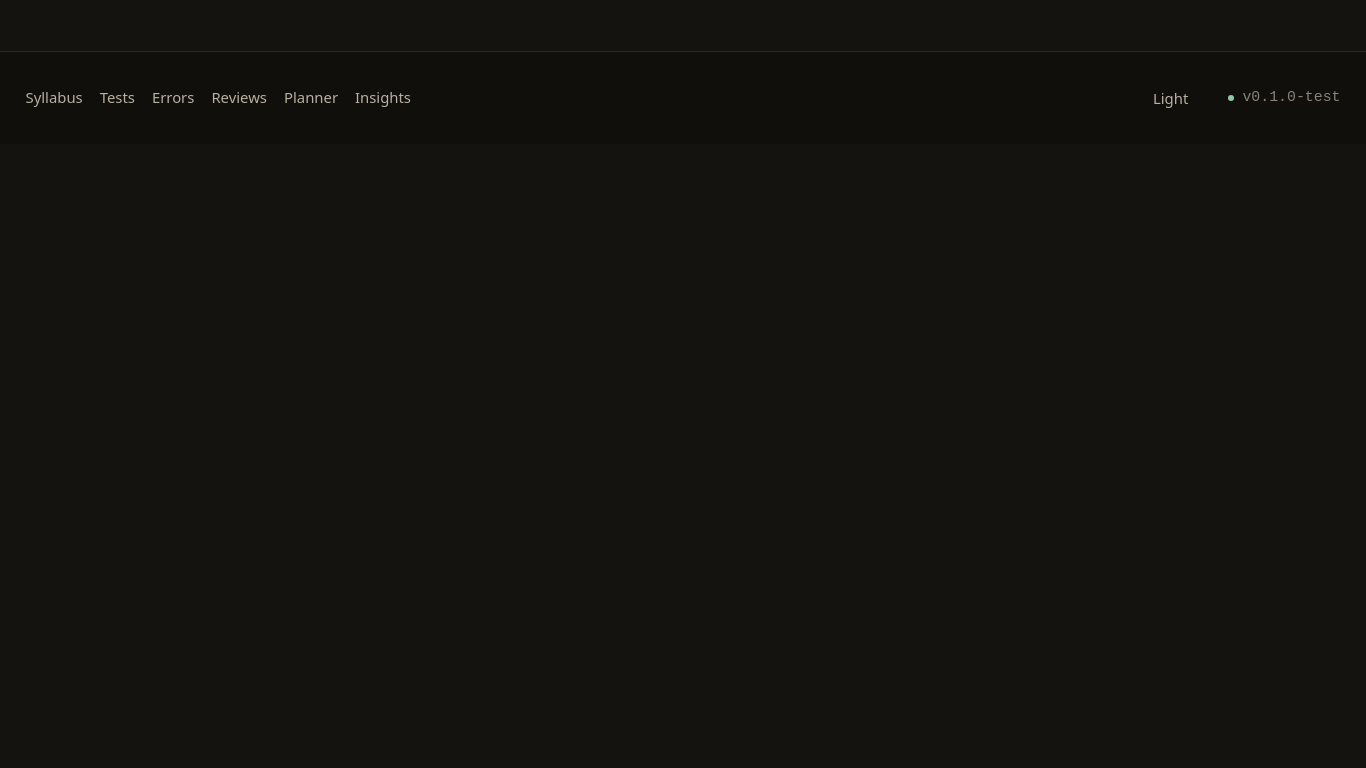
Scenario: AppFooter › toggles the theme from the footer
Click the button with test id "footer-theme-toggle".
click(1171, 98)  # box [1139,78,1202,119]
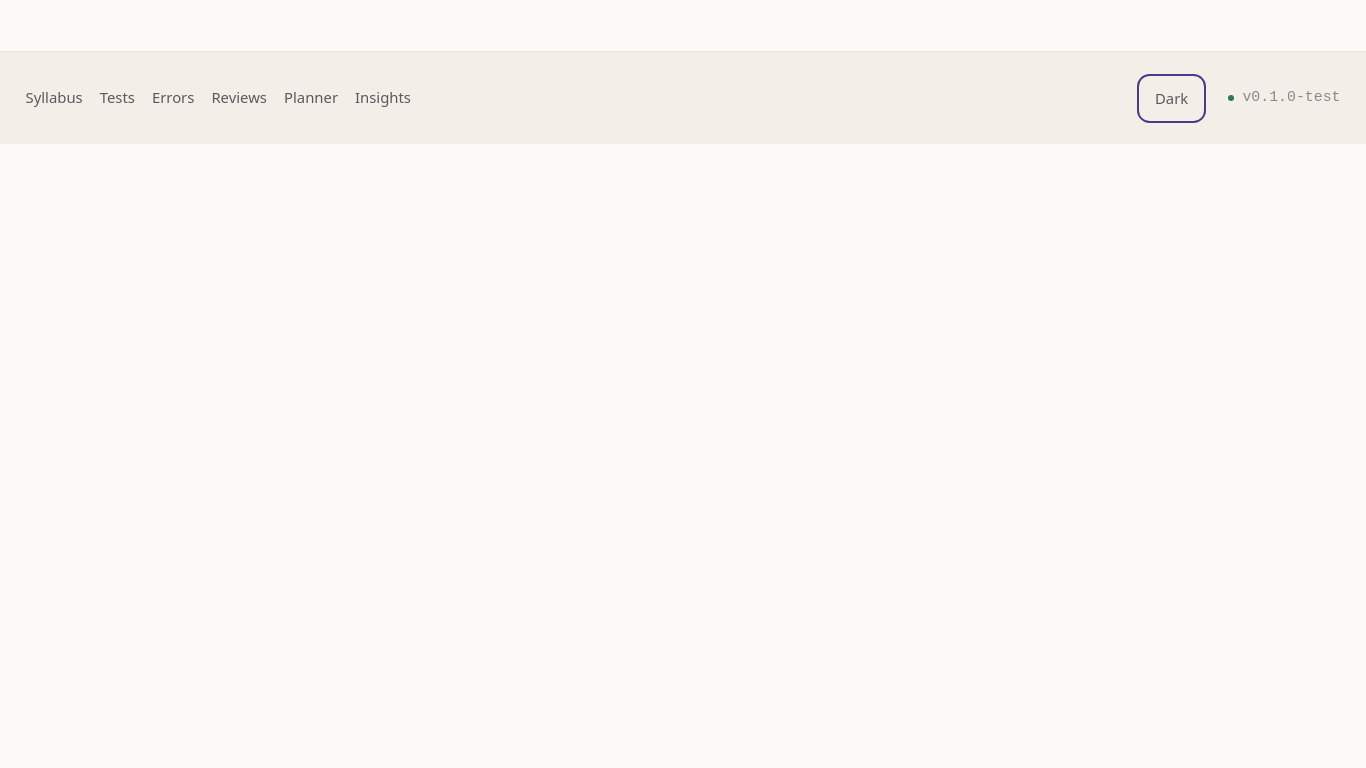
Check: the button with test id "footer-theme-toggle" no longer shows "Light"
